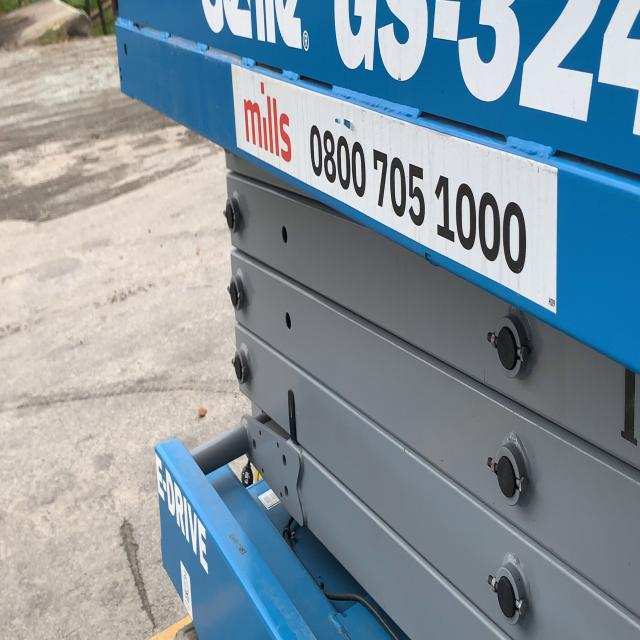Adesivo Longo: (228, 58, 560, 317)
